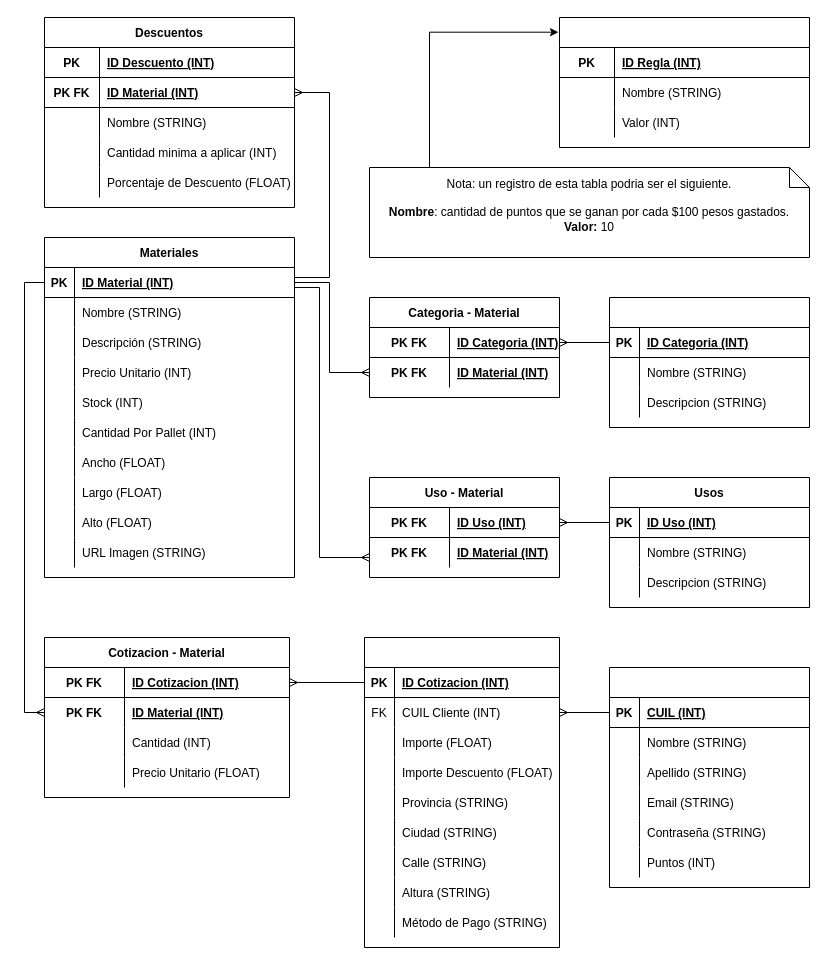
The diagram is 827 pixels wide and 965 high, and some of its shapes have lost their labels. Each missing label, with the box of its shape:
Categorias: (608, 296, 810, 428)
Clientes: (608, 666, 810, 888)
Cotizaciones: (364, 636, 560, 948)
Reglas del Sitio: (558, 16, 810, 148)
